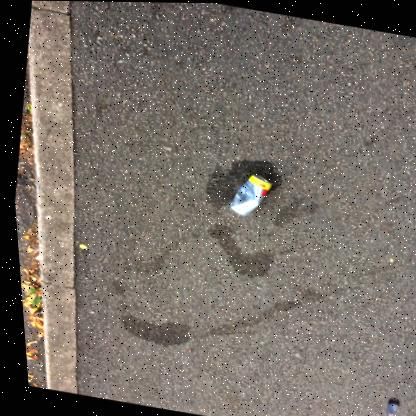Metal: (225, 172, 268, 213), (255, 173, 261, 179)
